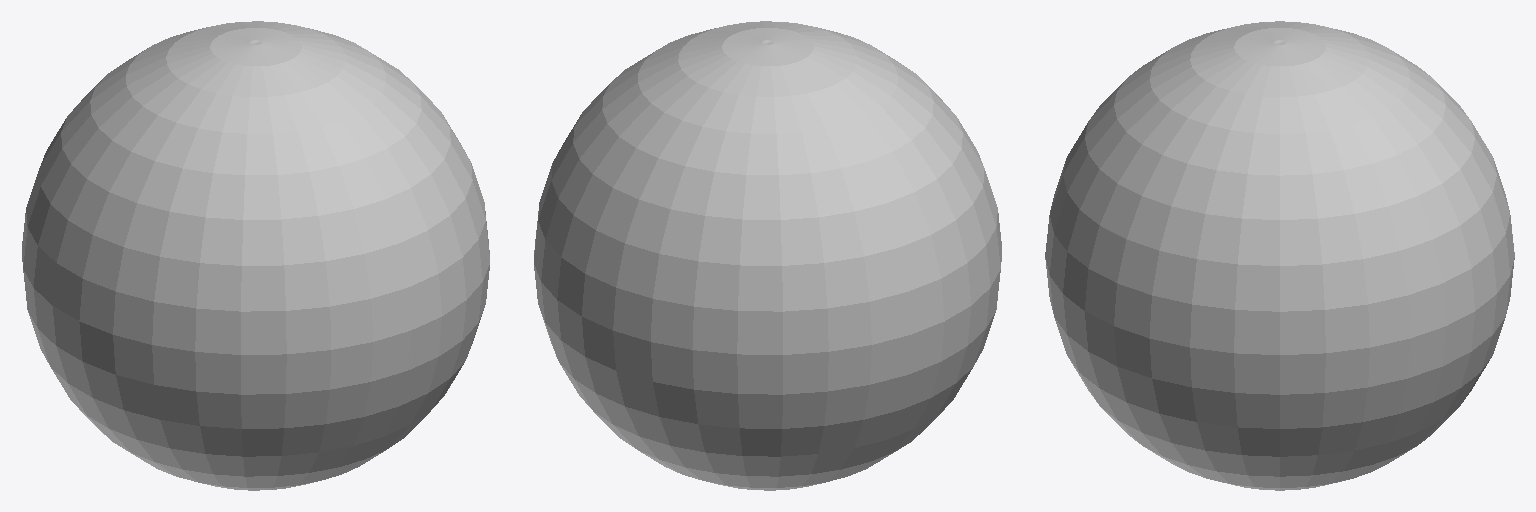
The model's file is xlarge.obj.
3 views of the same model, side by side, from view 1: azimuth 30°, elevation 25°; view 2: azimuth 150°, elevation 25°; view 3: azimuth 270°, elevation 25° (orthographic).
Visible parts, largest first — view 1: Sphere; view 2: Sphere; view 3: Sphere.
Boxes of the visible parts, x1=… form: Sphere: x1=22, y1=21, x2=489, y2=490; Sphere: x1=534, y1=21, x2=1001, y2=490; Sphere: x1=1045, y1=21, x2=1514, y2=490.
Size of the model in its own units: 4.4 by 4.41 by 4.4.